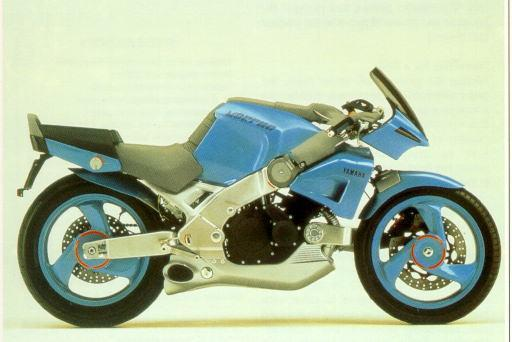motorcycle: (10, 50, 509, 334)
